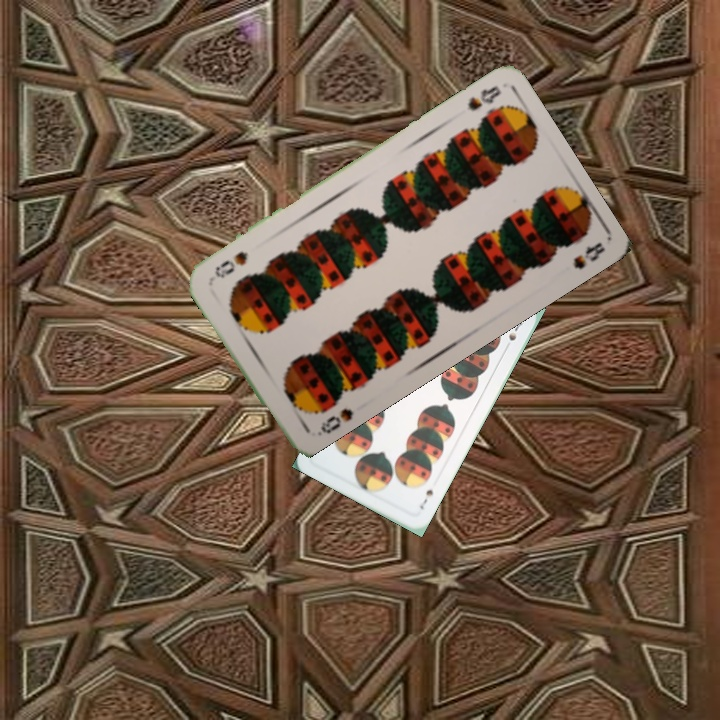S7: (416, 485, 436, 512)
S8: (313, 404, 356, 439), (463, 81, 504, 114)
